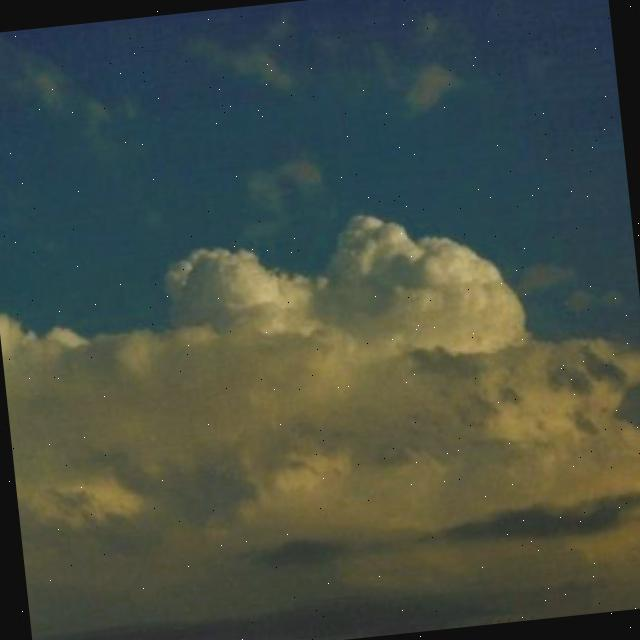St: (1, 170, 640, 611)
